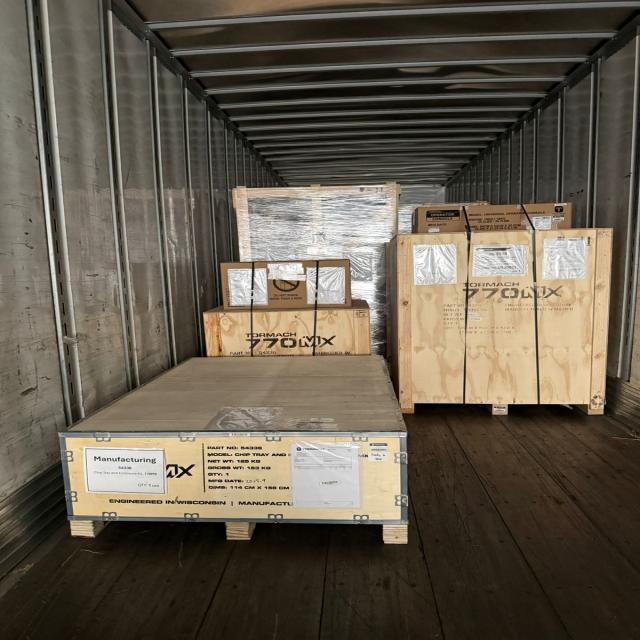770b: (389, 203, 611, 414)
encl770: (60, 356, 407, 543)
stnd770: (204, 260, 369, 356)
